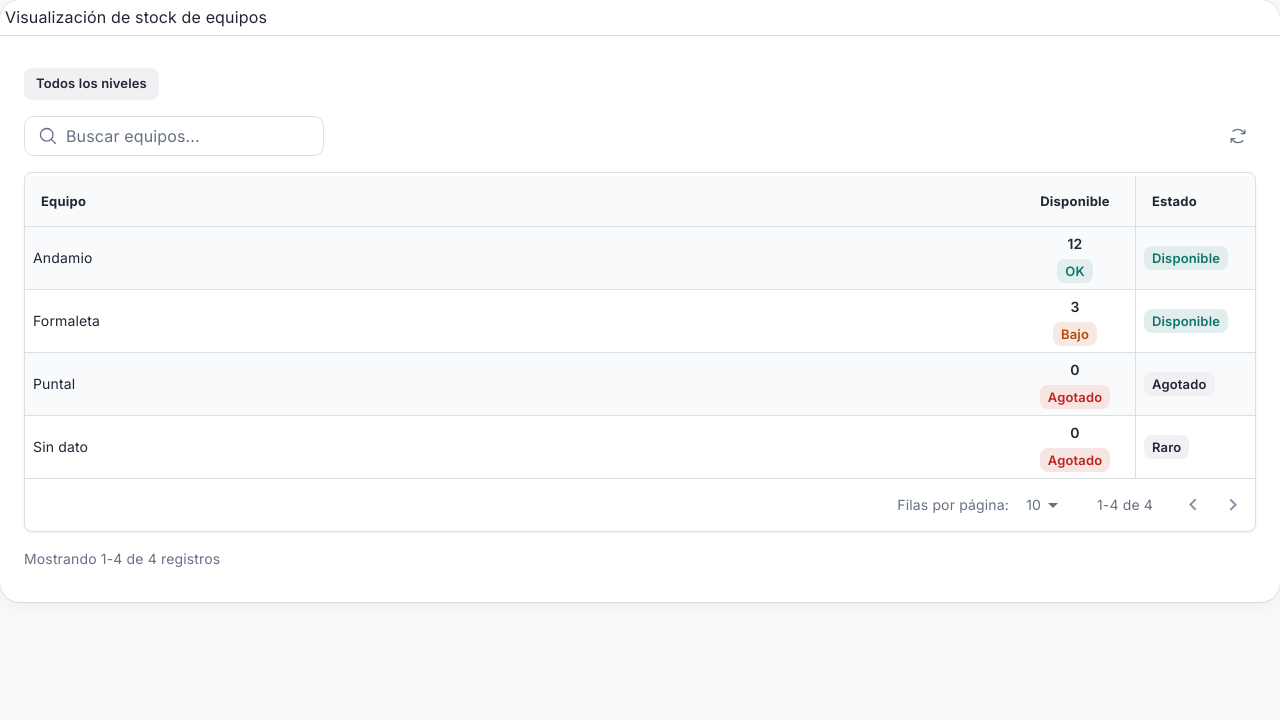
Stock de equipos › clasifica la disponibilidad (OK / Bajo / Agotado) y filtra solo bajo stock en el servidor
Later steps or results of the test are not shown.
Check: the text "Andamio" is shown, box [25,227,1015,290]
Check: the text "OK" is shown, box [1065,263,1085,279]
Click the button "Todos los niveles" at (91, 84), box [24,68,159,100]
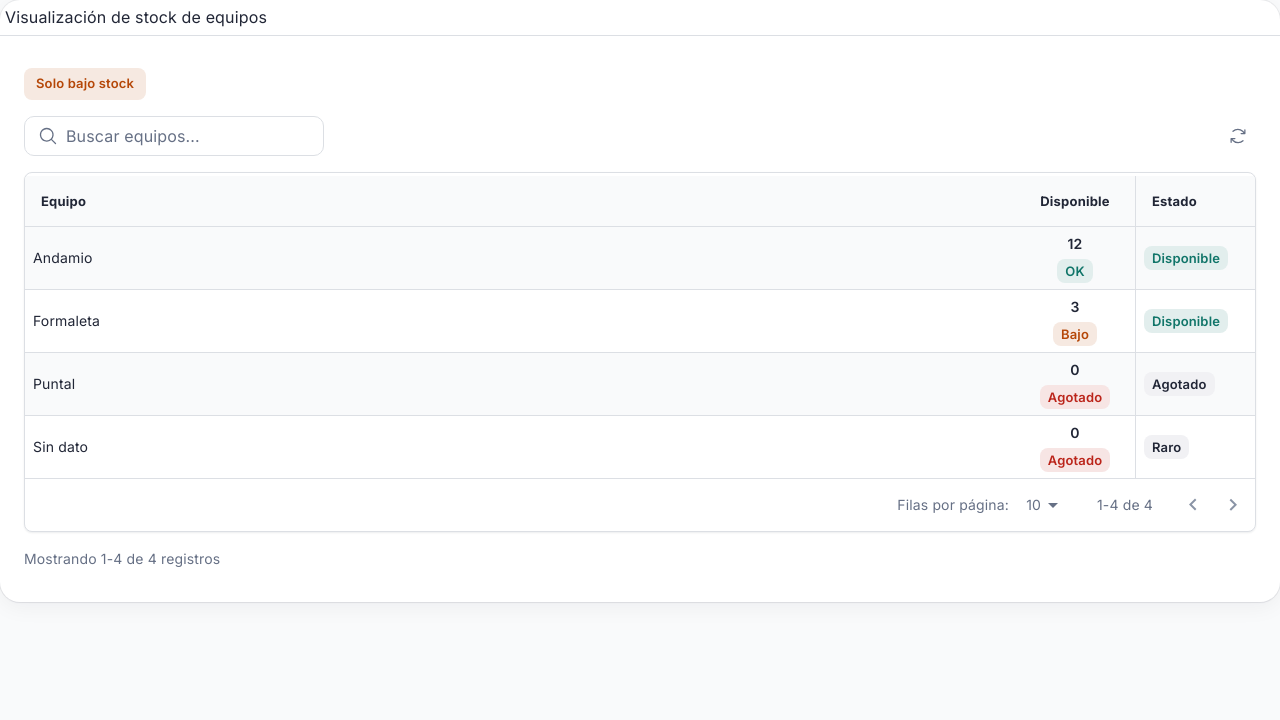
Check: the text "Solo bajo stock" is shown, box [36,75,134,91]
